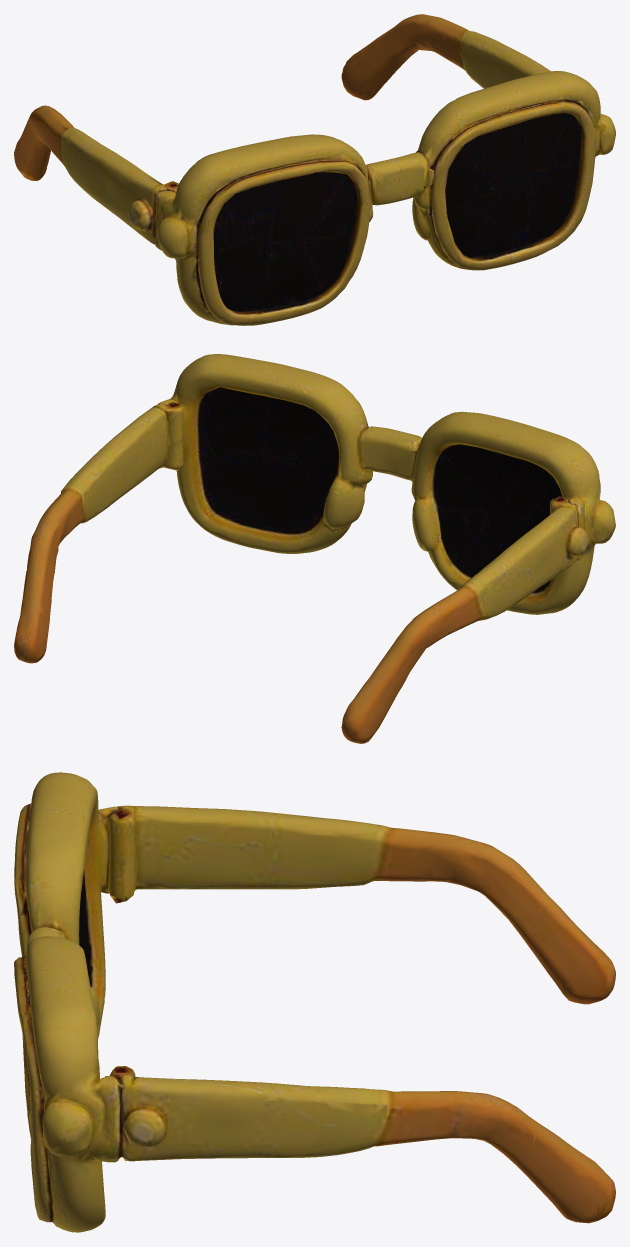
Rendered from acc_face_shades_01.glb.
3 renders of one model, top to bottom at view 1: azimuth 30°, elevation 25°; view 2: azimuth 150°, elevation 25°; view 3: azimuth 270°, elevation 25°, orthographic. The views are drawn at different scales.
Parts seen in each view (by area): view 1: acc_face_shades_01; view 2: acc_face_shades_01; view 3: acc_face_shades_01.
Part boxes in pixels (x1,y1,x2,y2): acc_face_shades_01: (14, 14, 615, 325); acc_face_shades_01: (14, 354, 615, 743); acc_face_shades_01: (14, 772, 615, 1232).
Size of the model in its own units: 0.3233 by 0.12 by 0.2723.
1 material, 1 textured.
